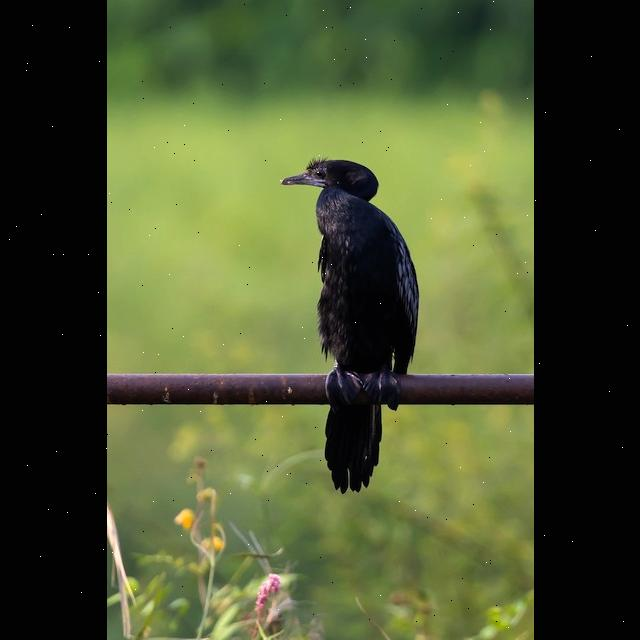cormorant: (274, 150, 431, 498)
